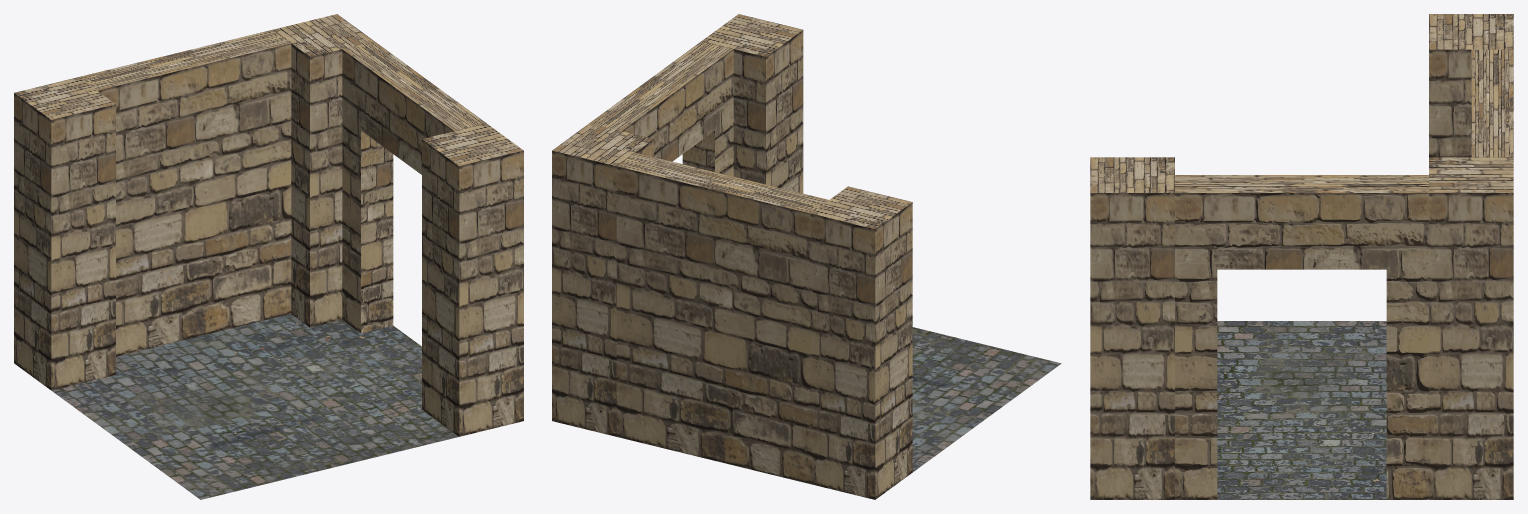
The model's file is 1-ESW-northWallEastDoor.fbx.
3 renders of one model, left to right at view 1: azimuth 30°, elevation 25°; view 2: azimuth 150°, elevation 25°; view 3: azimuth 270°, elevation 25°, orthographic. The views are drawn at different scales.
Parts seen in each view (by area): view 1: Cube_1, Plane; view 2: Cube_1, Plane; view 3: Cube_1, Plane.
Boxes of the visible parts, x1=… form: Cube_1: x1=14, y1=14, x2=523, y2=436; Plane: x1=52, y1=314, x2=458, y2=499; Cube_1: x1=552, y1=14, x2=912, y2=499; Plane: x1=912, y1=327, x2=1061, y2=472; Cube_1: x1=1090, y1=14, x2=1513, y2=499; Plane: x1=1217, y1=321, x2=1386, y2=499.
Bounding box in the file's own units: 10 × 8 × 10.
Materials: 3 (3 with a texture image).
